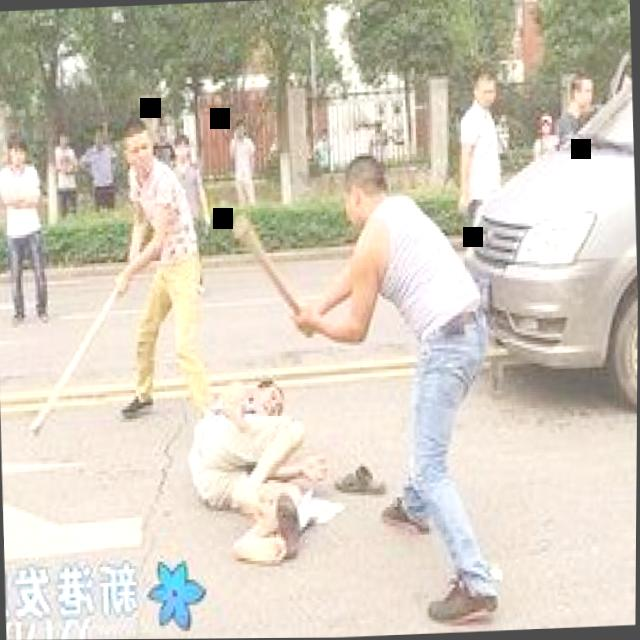Fall-Detected: (175, 339, 346, 573)
